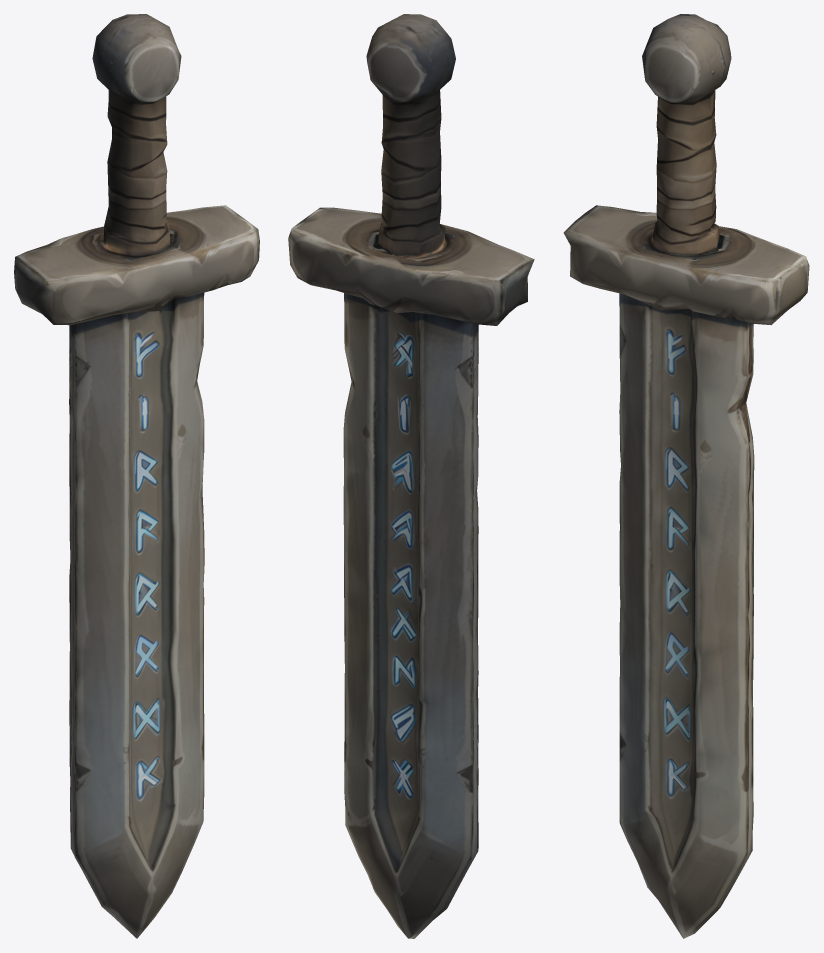
Rendered from Prop_Weapon_RunicBlade.fbx.
The picture shows the model from 3 angles, left to right: view 1: azimuth 30°, elevation 25°; view 2: azimuth 150°, elevation 25°; view 3: azimuth 330°, elevation 25°; orthographic projection.
Parts seen in each view (by area): view 1: texture_mapping; view 2: texture_mapping; view 3: texture_mapping.
Boxes of the visible parts, x1,y1,x2,y2 form: texture_mapping: (14, 14, 259, 938); texture_mapping: (288, 14, 534, 938); texture_mapping: (563, 14, 809, 938).
Size of the model in its own units: 0.2466 by 0.1066 by 1.
1 material, 1 textured.
